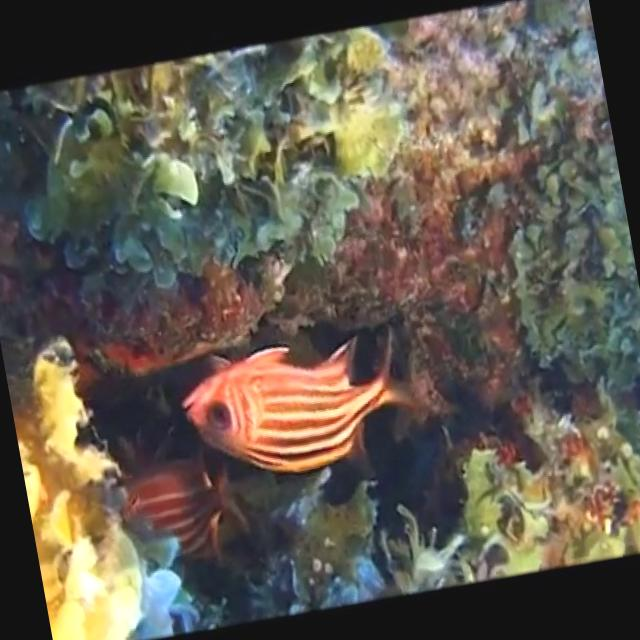Asker Baligi: (169, 320, 410, 493)
